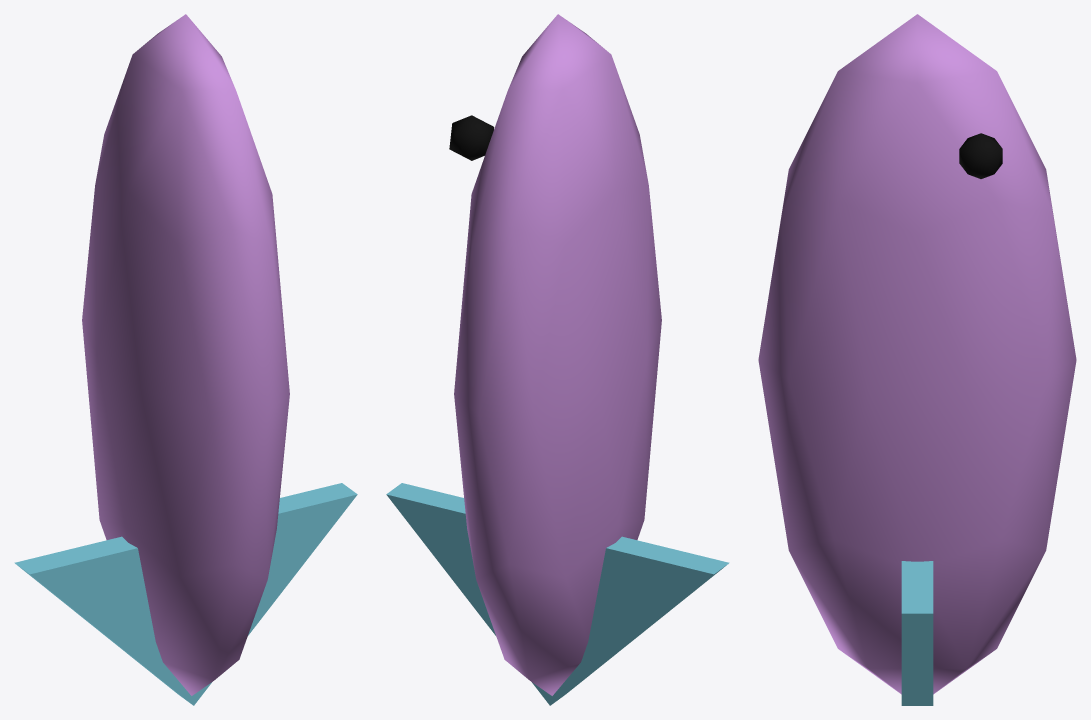
The model's file is prismite.glb.
3 renders of one model, left to right at view 1: azimuth 30°, elevation 25°; view 2: azimuth 150°, elevation 25°; view 3: azimuth 270°, elevation 25°, orthographic.
Parts seen in each view (by area): view 1: prismite_v0; view 2: prismite_v0; view 3: prismite_v0.
Boxes of the visible parts, x1,y1,x2,y2 form: prismite_v0: [14, 14, 357, 705]; prismite_v0: [386, 14, 729, 705]; prismite_v0: [758, 14, 1076, 705].
Bounding box in the file's own units: 0.12 × 0.24 × 0.1.
